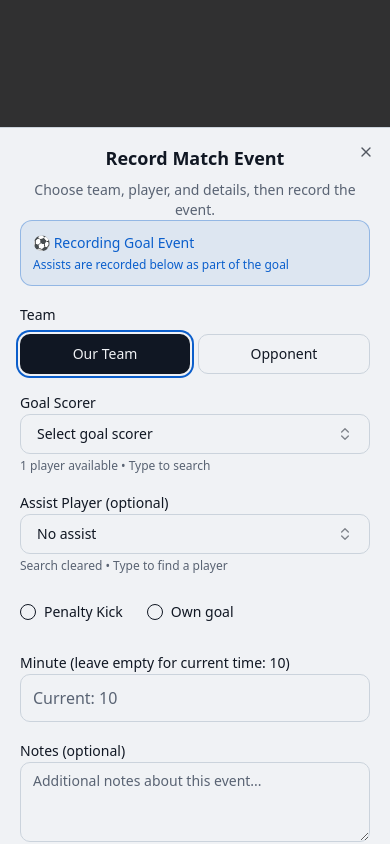
EnhancedEventDialog own goal (UX-042) › records an own goal for our team with no scorer, assist or penalty
Later steps or results of the test are not shown.
Click the checkbox named "Penalty Kick" next to "Penalty Kick" at (28, 612), box [20,604,36,620]
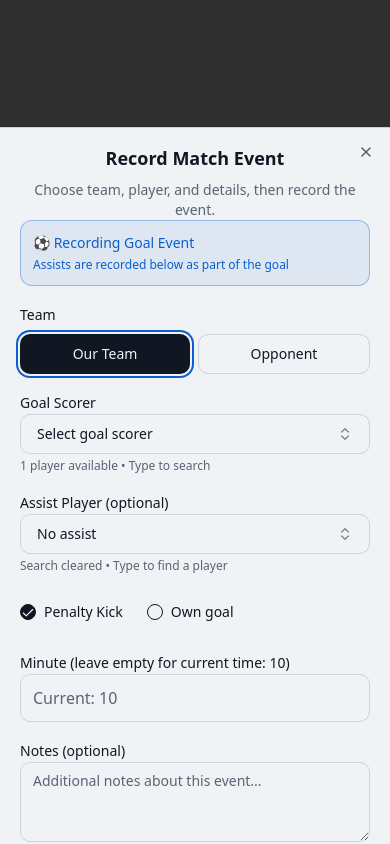
Click the checkbox named "Own goal" next to "Own goal" at (155, 612), box [147,604,163,620]
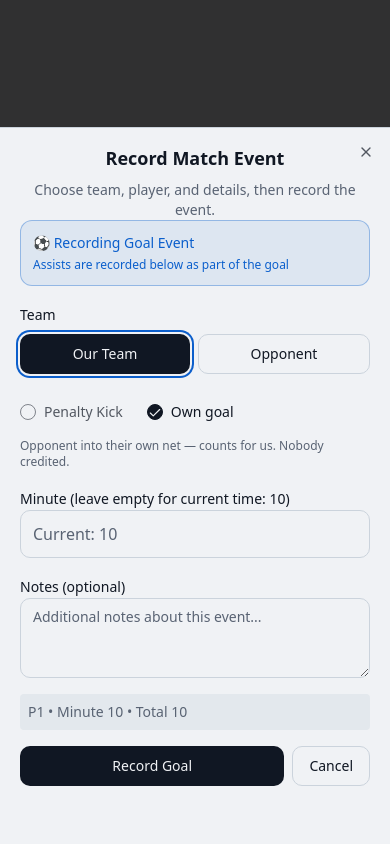
Check: the checkbox named "Penalty Kick" next to "Penalty Kick" is not checked, box [20,404,36,420]
Check: the checkbox named "Penalty Kick" next to "Penalty Kick" is disabled, box [20,404,36,420]
Check: the text "Goal Scorer" is gone
